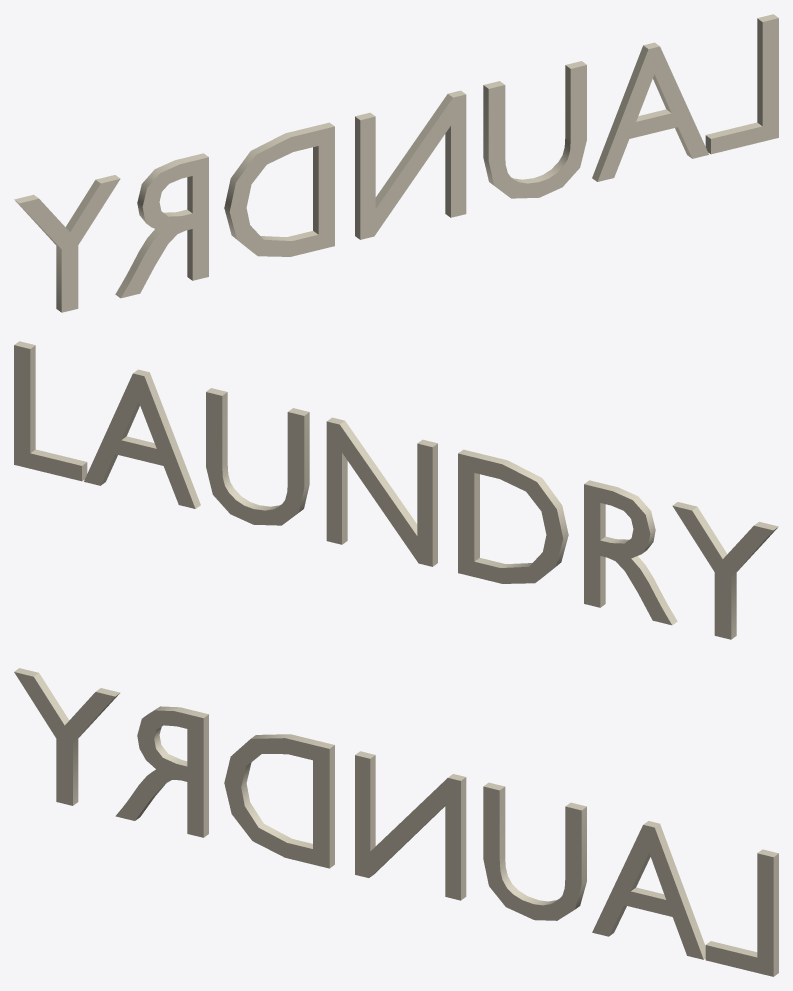
File: ShopSign_9.fbx
The picture shows the model from 3 angles, top to bottom: view 1: azimuth 30°, elevation 25°; view 2: azimuth 150°, elevation 25°; view 3: azimuth 330°, elevation 25°; orthographic projection.
Visible parts, largest first — view 1: ShopSign_9_Mesh; view 2: ShopSign_9_Mesh; view 3: ShopSign_9_Mesh.
Boxes of the visible parts, box(x1,y1,x2,y2) form: ShopSign_9_Mesh: box(14, 14, 778, 312); ShopSign_9_Mesh: box(14, 341, 778, 639); ShopSign_9_Mesh: box(14, 668, 778, 976).
Size of the model in its own units: 1.63 by 0.2502 by 0.02.
